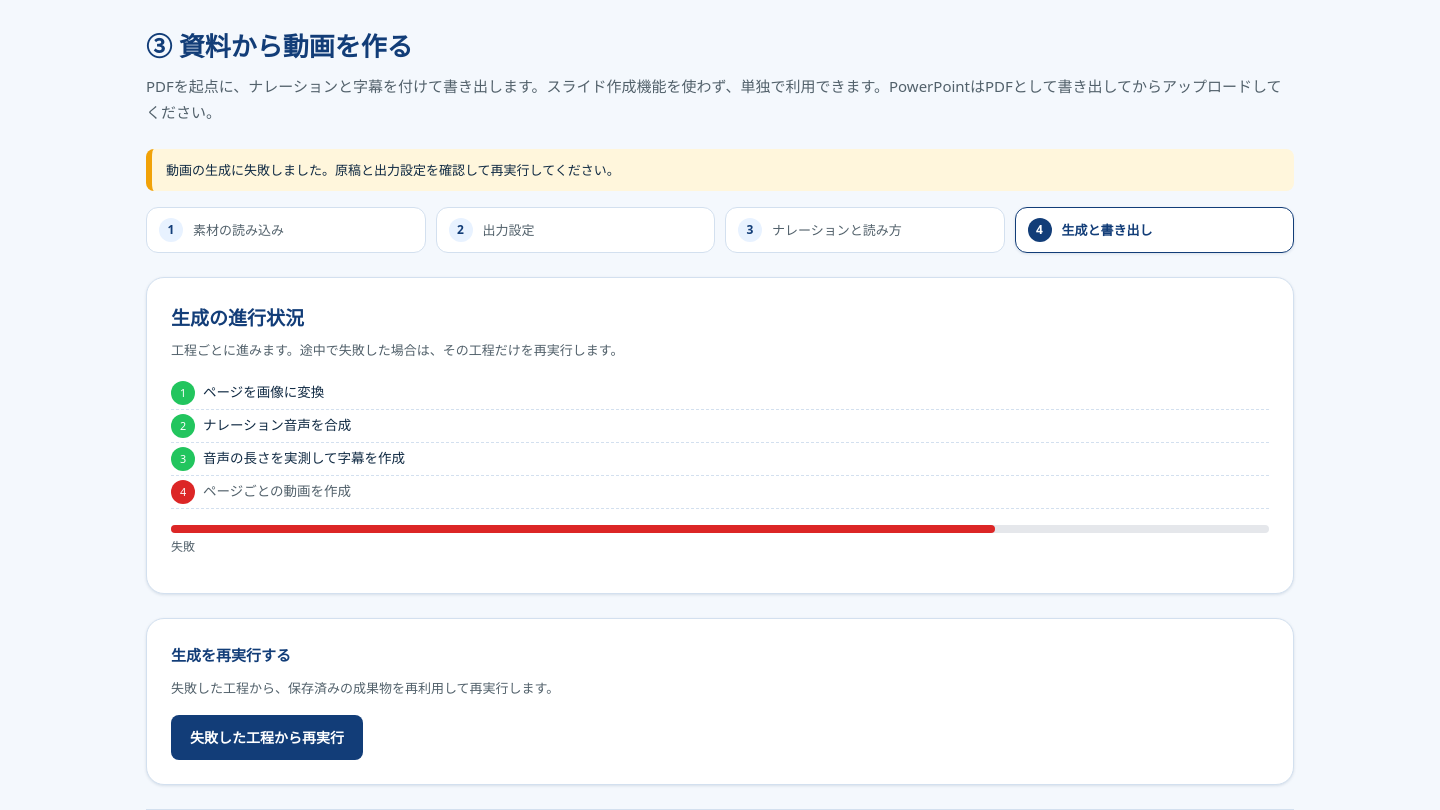
Scenario: VideoStudioPageの部分再実行 › APIがaudioからの再実行を返すと実際の開始工程を進捗へ反映する
Click the button "失敗した工程から再実行": (267, 738) [171,715,363,760]
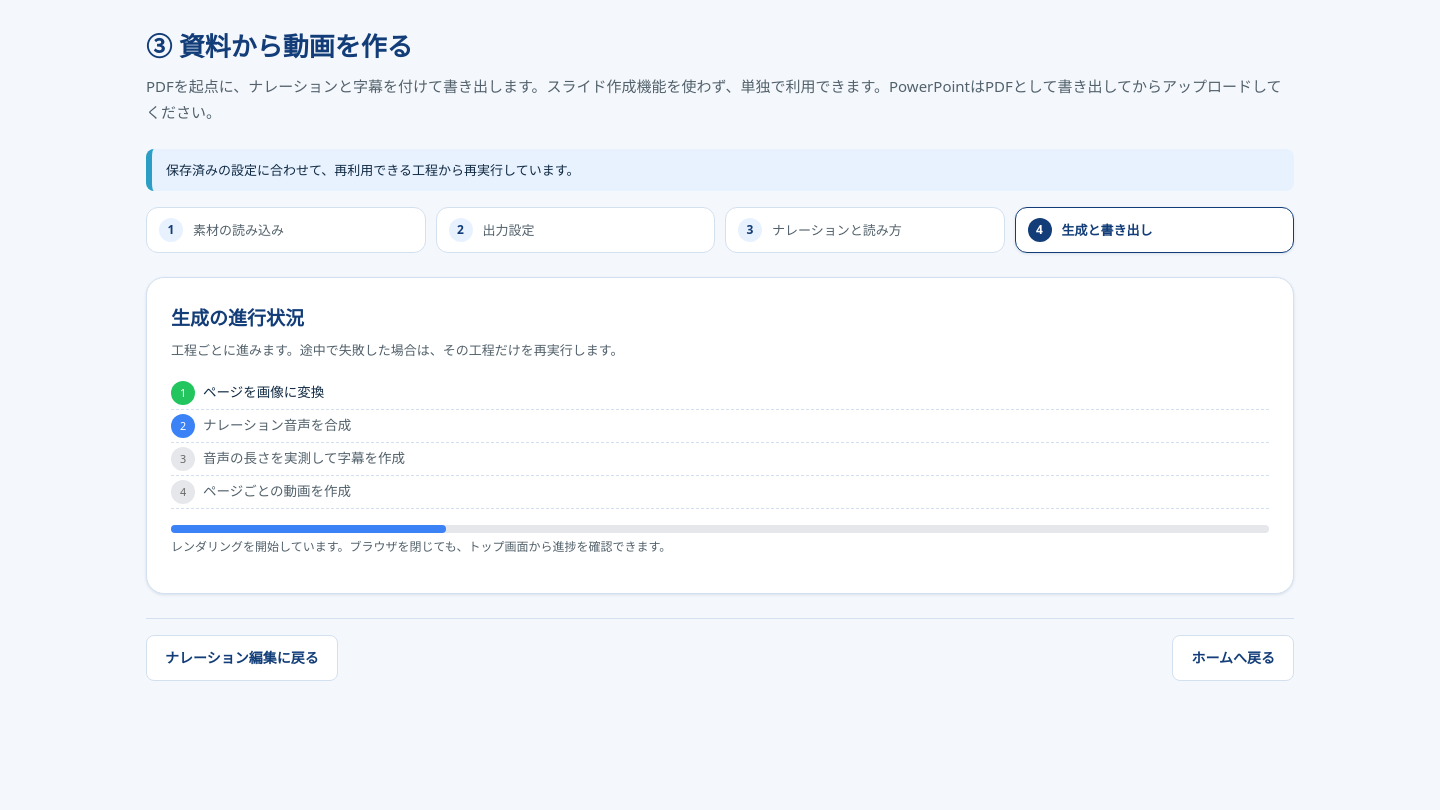
Expected: the text "保存済みの設定に合わせて、再利用できる工程から再実行しています。" is shown, [146,149,1294,191]
